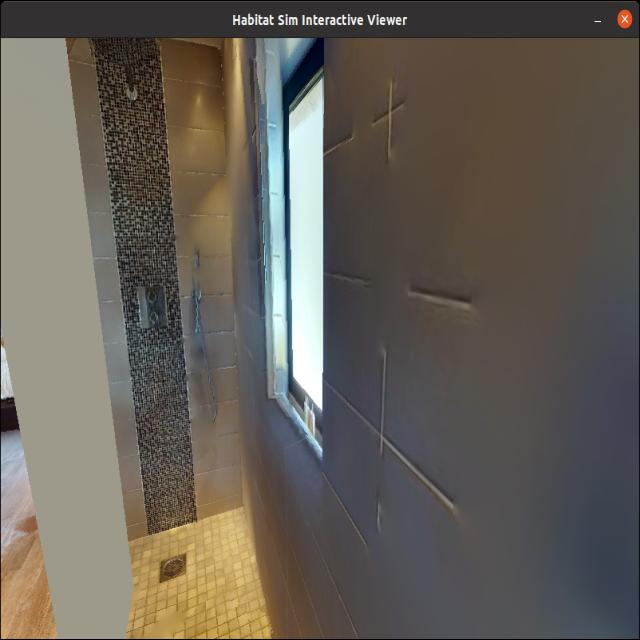shower: (88, 36, 302, 640)
